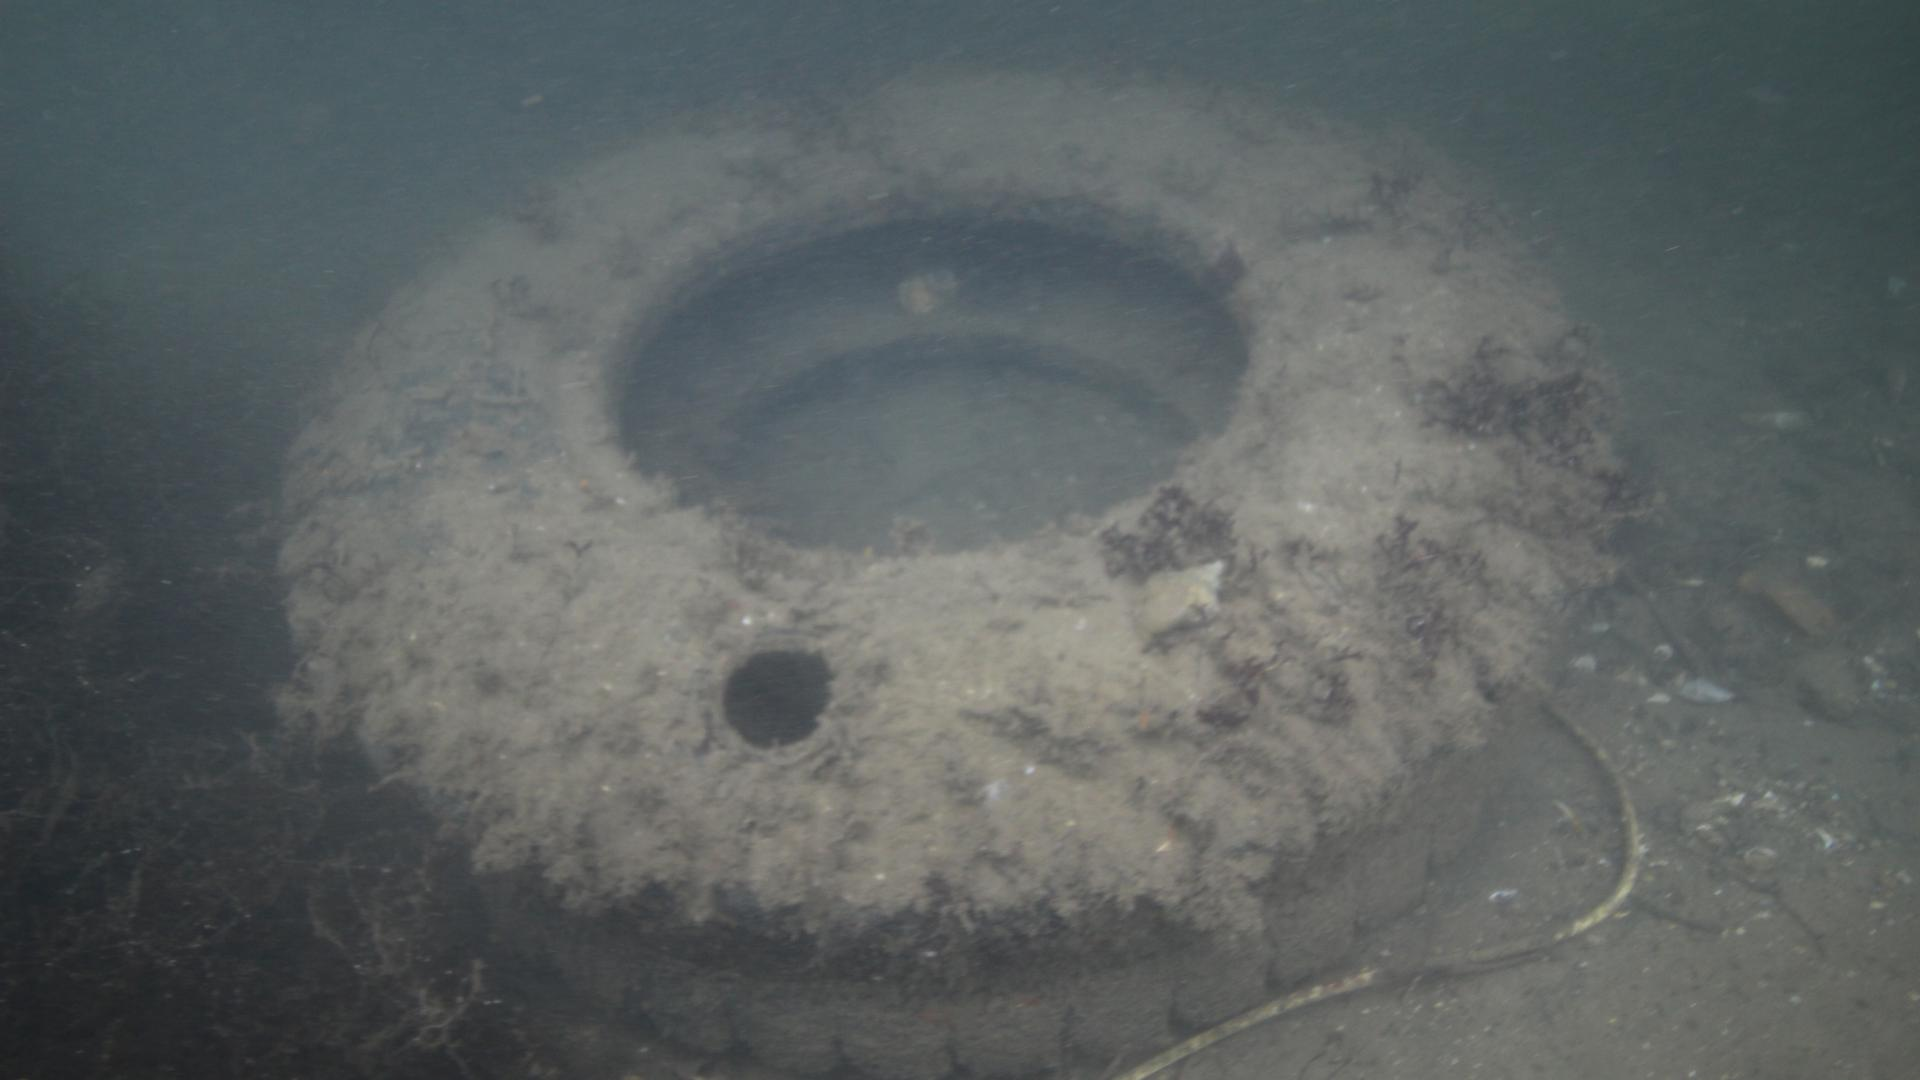tire: (276, 54, 1618, 1077)
